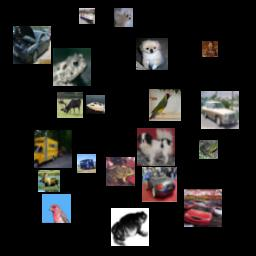automobile: (13, 26, 51, 64), (184, 189, 222, 227), (201, 91, 239, 129), (142, 167, 177, 202)
bird: (149, 89, 181, 121), (42, 194, 71, 223)
deer: (57, 92, 83, 118), (38, 170, 60, 192)
dog: (137, 128, 175, 166), (136, 38, 168, 70), (114, 8, 133, 27)
frog: (111, 208, 149, 246), (53, 48, 91, 86), (106, 157, 135, 186), (199, 140, 218, 159), (202, 41, 218, 57)
ship: (86, 95, 105, 114), (79, 8, 95, 24)
truck: (34, 130, 72, 168), (77, 154, 96, 173)
